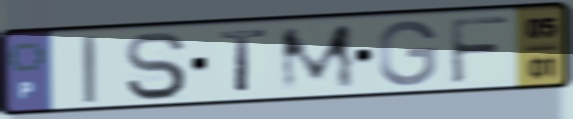F: (446, 14, 514, 87)
G: (375, 18, 440, 89)
I: (77, 32, 101, 106)
M: (276, 21, 360, 95)
S: (122, 29, 190, 102)
T: (217, 27, 270, 96)
